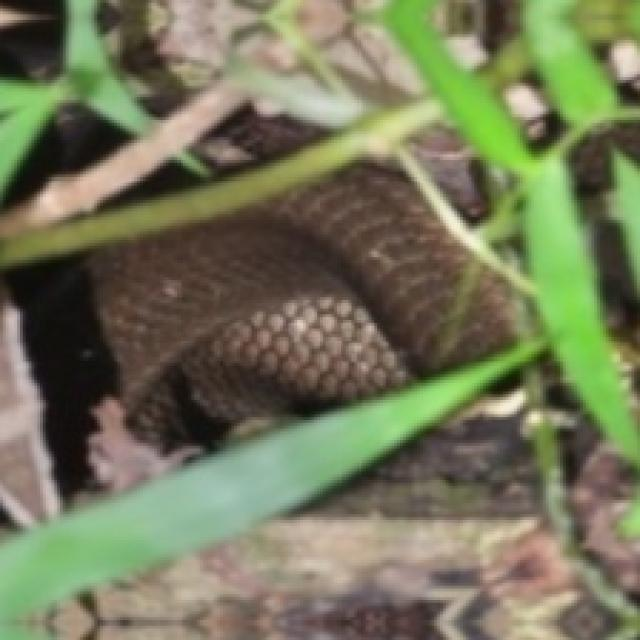king cobra: (88, 164, 512, 487), (195, 109, 324, 171), (414, 131, 485, 218), (578, 140, 605, 189), (620, 131, 640, 156)
